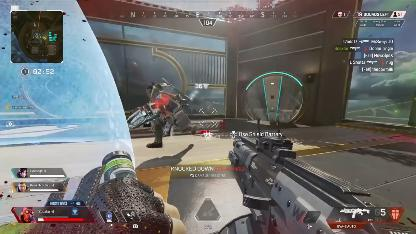Target: (140, 83, 192, 146)
